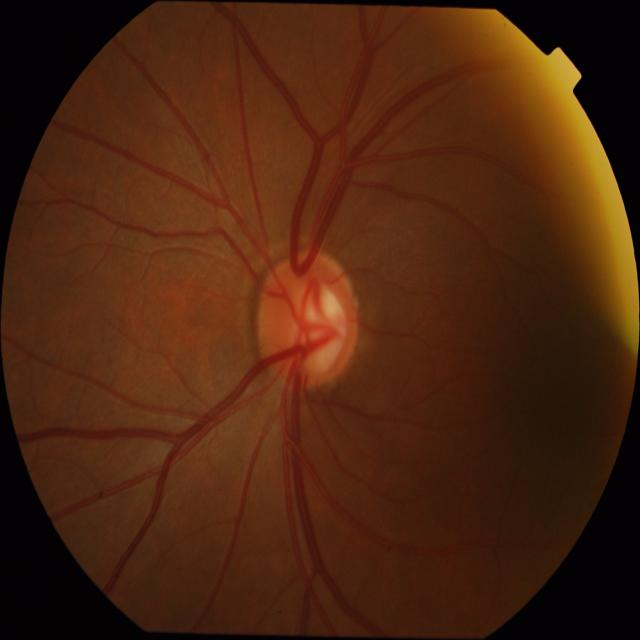OC: (268, 271, 348, 378)
OD: (254, 249, 360, 390)
